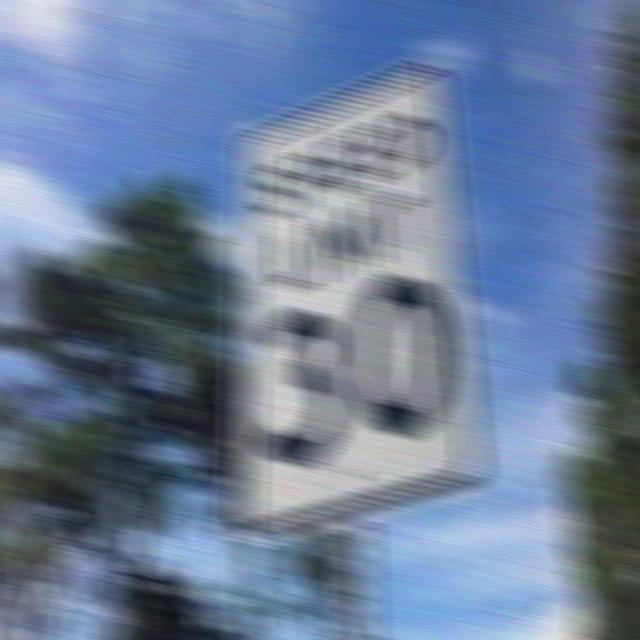speedLimit35: (236, 58, 477, 544)
